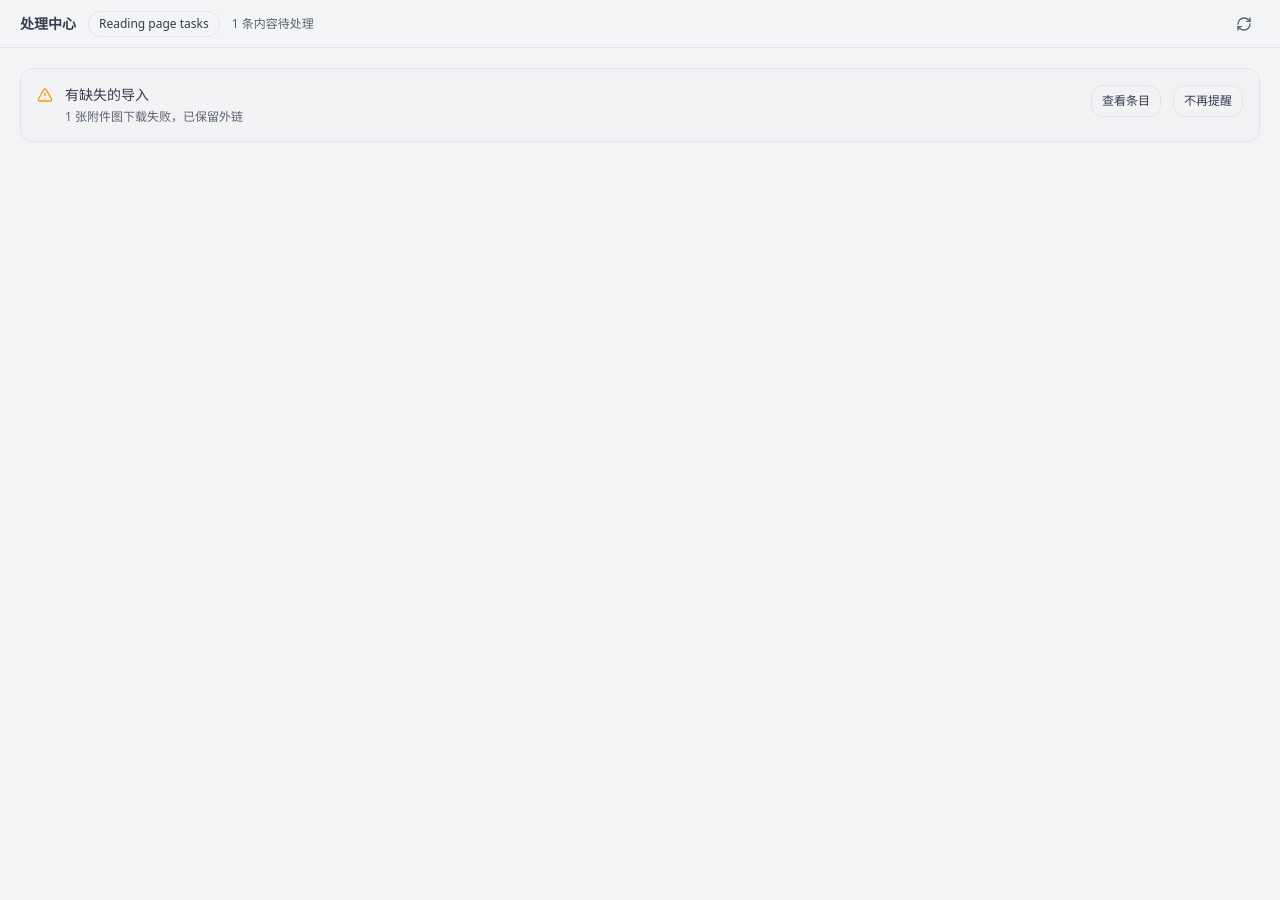
Test: 处理中心聚合任务 › 已完成的导入警告可标记为不再提醒
Click the button "不再提醒". click: (1208,101)
box: 1173,85 -> 1243,117
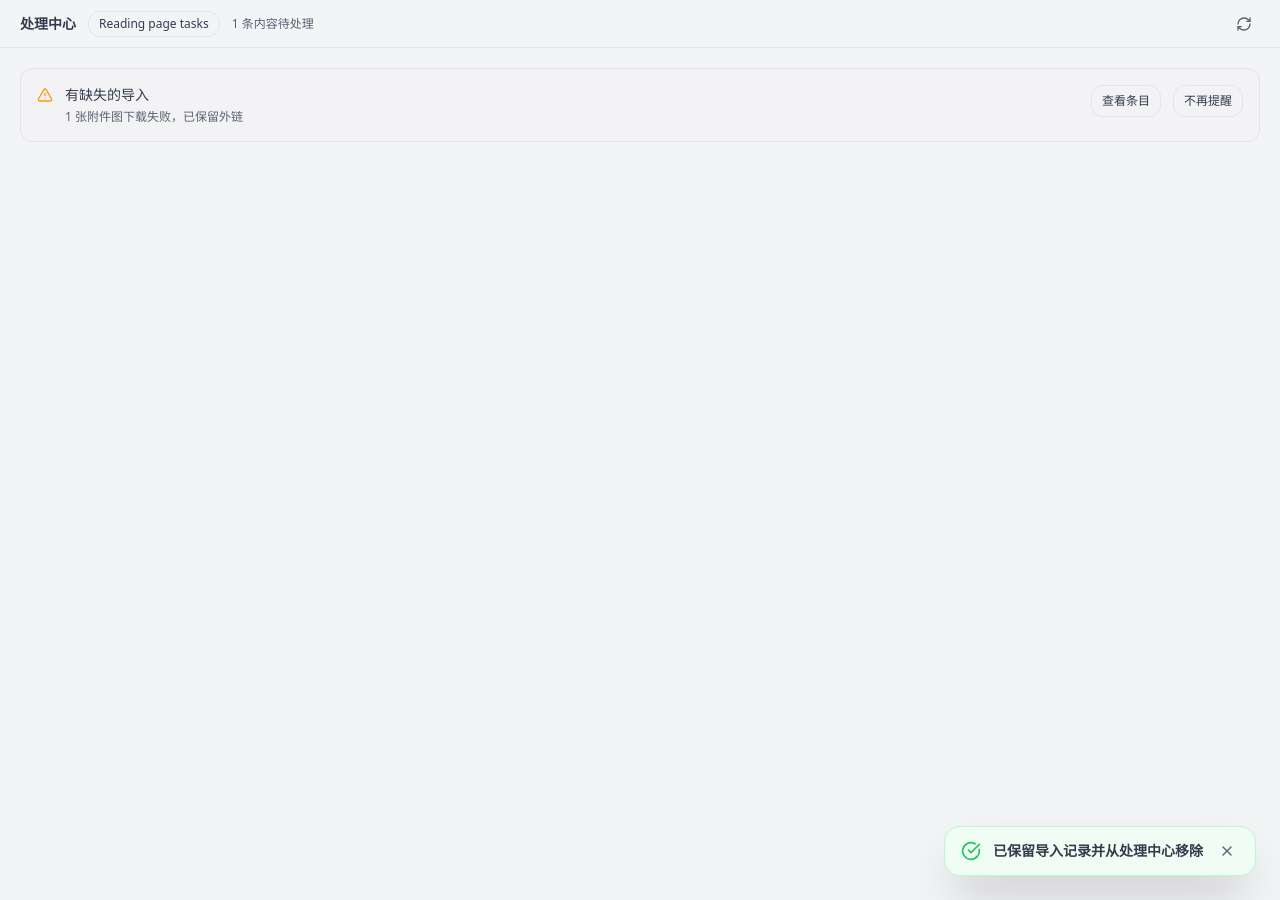
Expected: the text "已保留导入记录并从处理中心移除" is shown, 993,841 -> 1203,861
